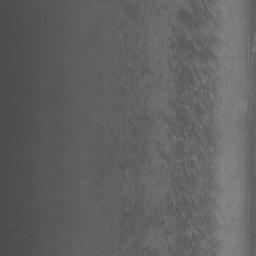Silk spot: (89, 0, 225, 256)
